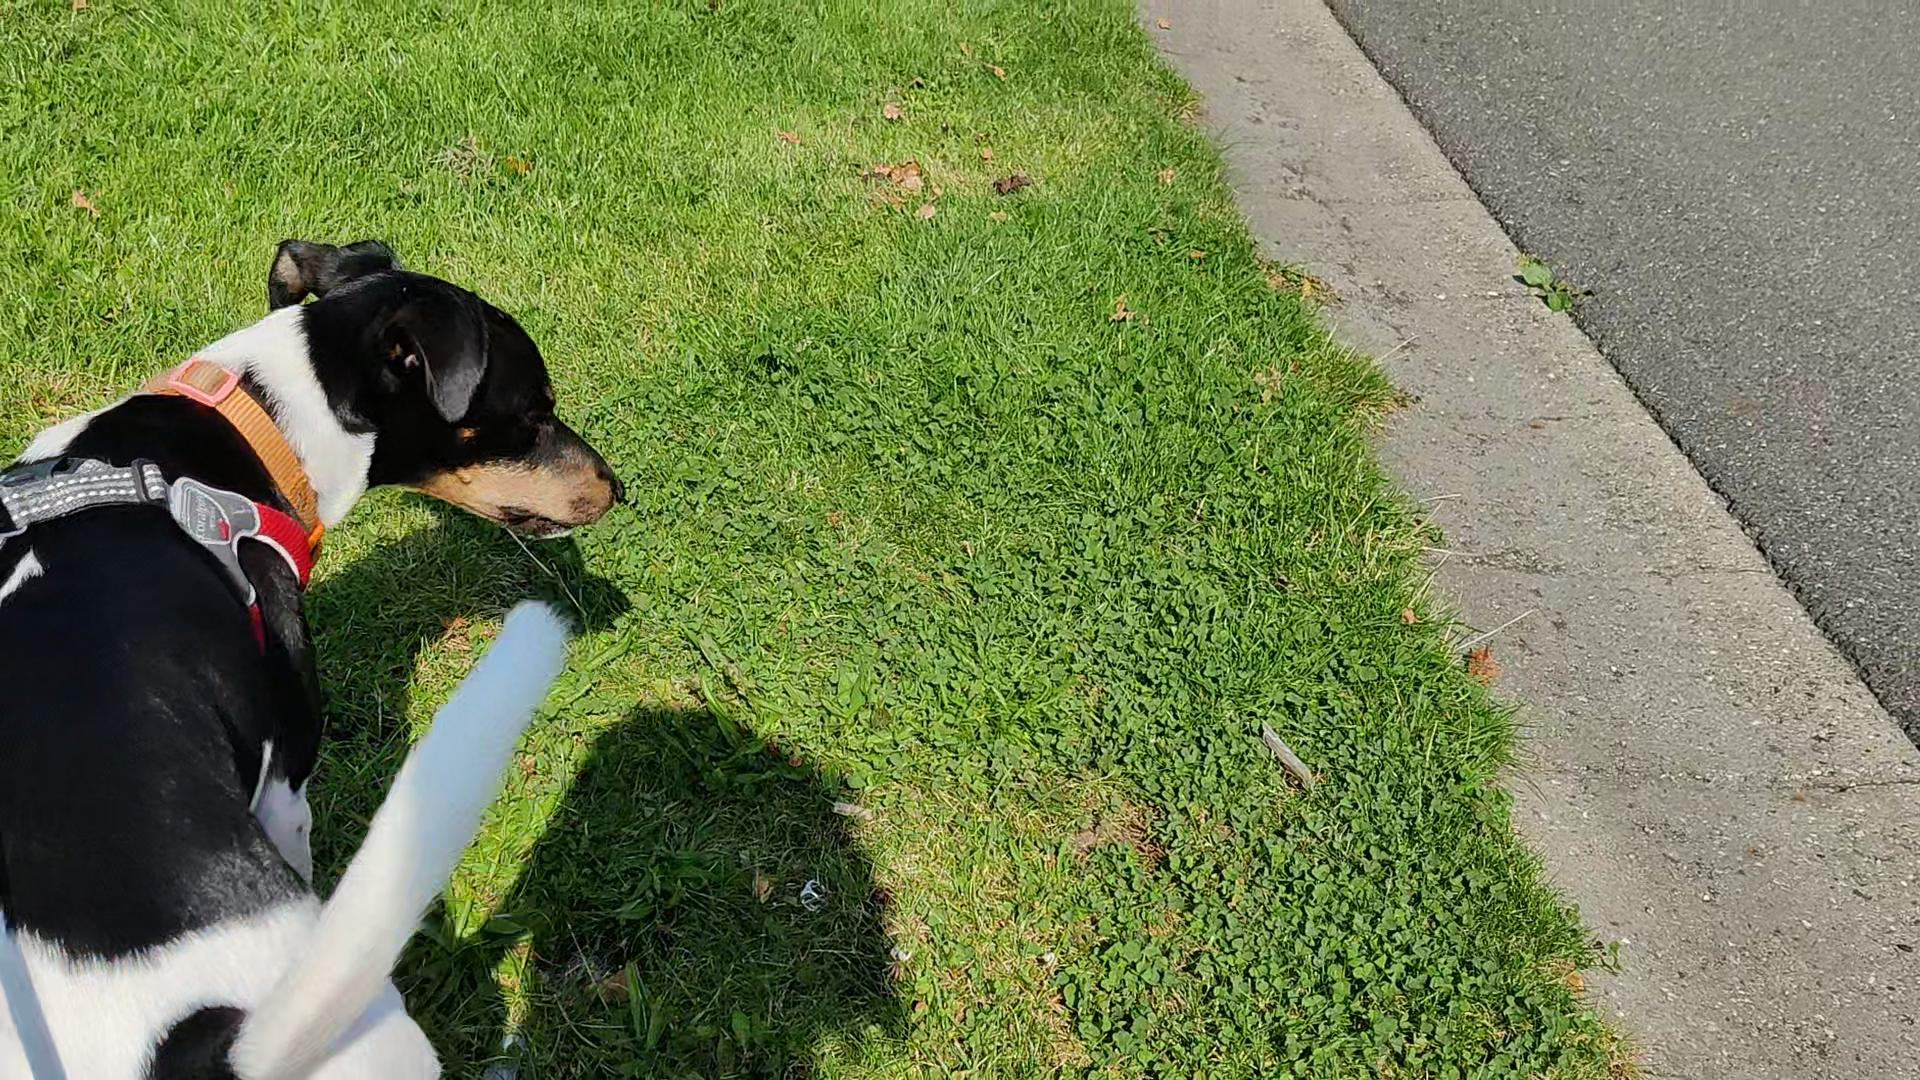Dog: (0, 229, 633, 1077)
